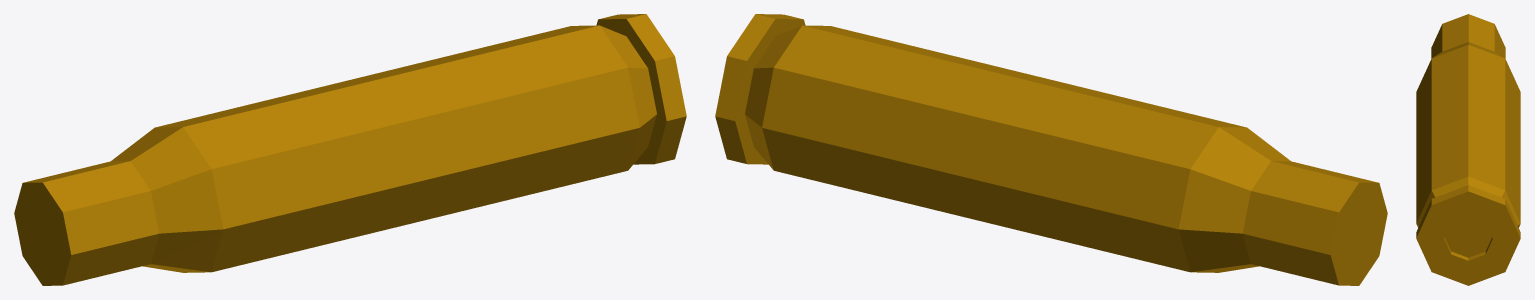
File: 7.62x51mmshell.glb
3 renders of one model, left to right at view 1: azimuth 30°, elevation 25°; view 2: azimuth 150°, elevation 25°; view 3: azimuth 270°, elevation 25°, orthographic. The views are drawn at different scales.
Visible parts, largest first — view 1: 7.62x51 mag.001; view 2: 7.62x51 mag.001; view 3: 7.62x51 mag.001.
Part boxes in pixels (x1,y1,x2,y2): 7.62x51 mag.001: [14, 14, 686, 285]; 7.62x51 mag.001: [715, 14, 1387, 285]; 7.62x51 mag.001: [1416, 14, 1520, 285].
Bounding box in the file's own units: 0.51 × 0.1177 × 0.1177.
